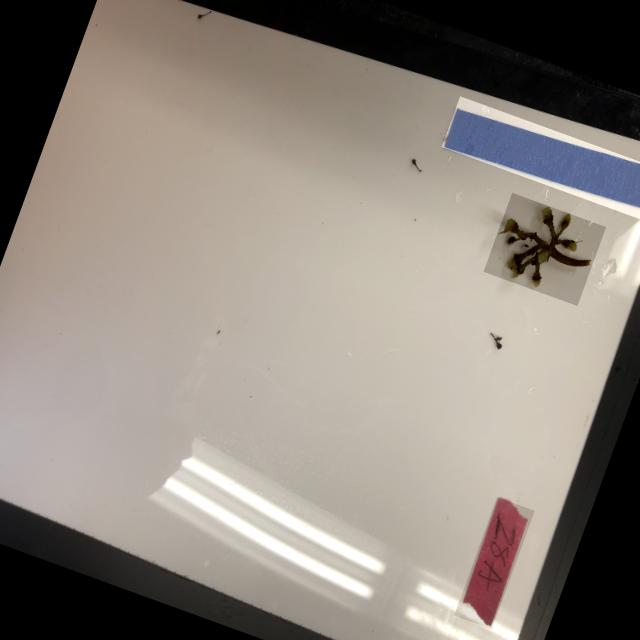index: (453, 497, 534, 629)
measure_label: (440, 96, 640, 222)
rachis_cluster: (482, 192, 605, 306)
